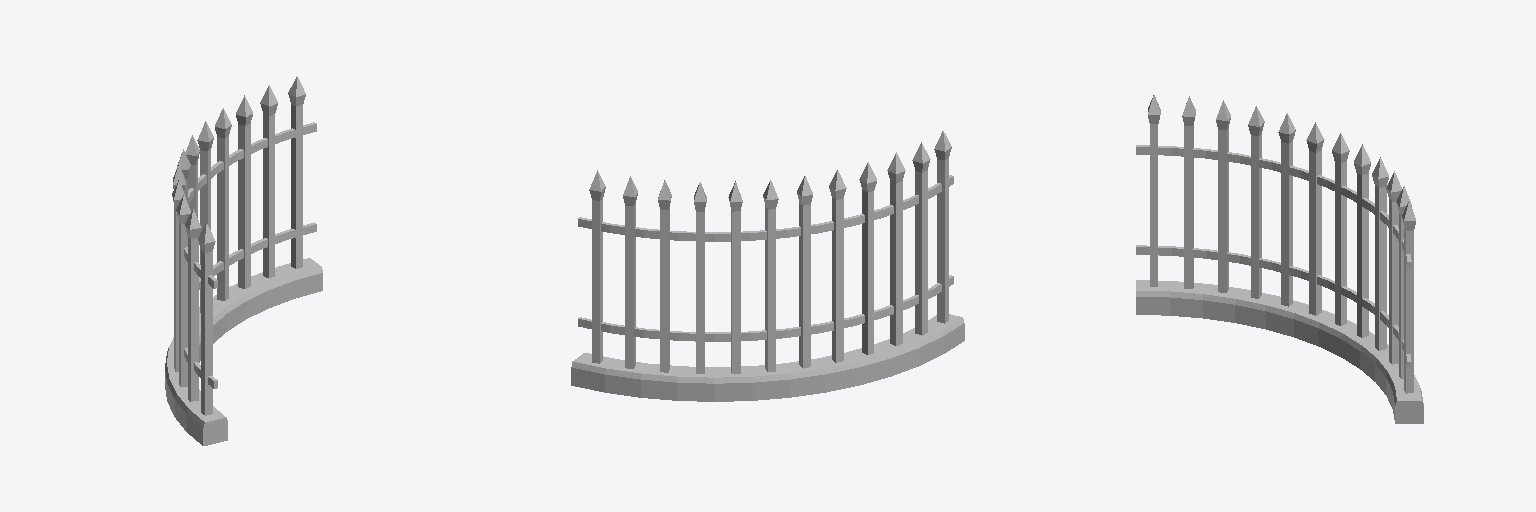
Rendered from ironFenceBorderCurve.obj.
3 views of the same model, side by side, from view 1: azimuth 30°, elevation 25°; view 2: azimuth 150°, elevation 25°; view 3: azimuth 270°, elevation 25° (orthographic).
Parts seen in each view (by area): view 1: ironFenceBorderCurve; view 2: ironFenceBorderCurve; view 3: ironFenceBorderCurve.
Part boxes in pixels (x1,y1,x2,y2): ironFenceBorderCurve: (165, 76, 322, 445); ironFenceBorderCurve: (571, 131, 964, 401); ironFenceBorderCurve: (1136, 95, 1423, 423).
Size of the model in its own units: 1 by 0.8239 by 1.